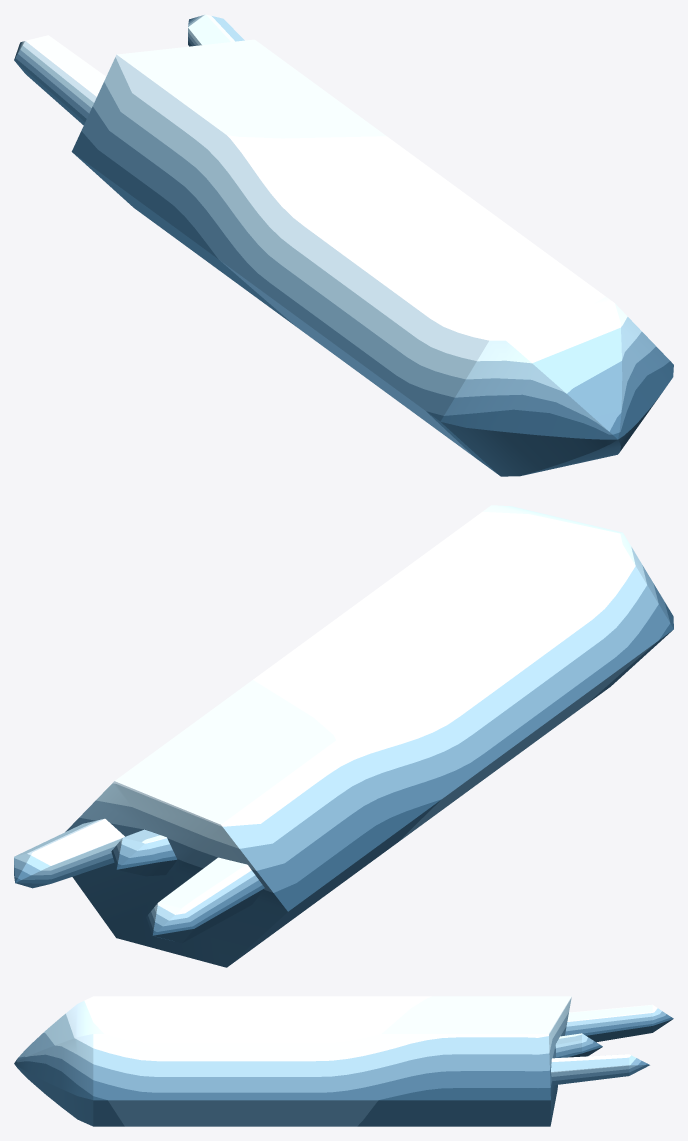
File: ice_spike.glb
3 renders of one model, top to bottom at view 1: azimuth 30°, elevation 25°; view 2: azimuth 150°, elevation 25°; view 3: azimuth 270°, elevation 25°, orthographic. The views are drawn at different scales.
Parts seen in each view (by area): view 1: ice_spike, splinter0, splinter1; view 2: ice_spike, splinter0, splinter1, splinter2; view 3: ice_spike, splinter0, splinter1, splinter2.
Part boxes in pixels (box(x1,y1,x2,y2)): ice_spike: box(71, 39, 673, 476); splinter0: box(14, 35, 105, 125); splinter1: box(188, 14, 244, 46); ice_spike: box(65, 505, 673, 967); splinter0: box(146, 857, 264, 943); splinter1: box(14, 818, 124, 888); splinter2: box(111, 829, 177, 876); ice_spike: box(14, 996, 571, 1126); splinter0: box(565, 1004, 673, 1042); splinter1: box(551, 1054, 649, 1085); splinter2: box(555, 1033, 602, 1057).
Size of the model in its own units: 7.24 by 4.41 by 28.
